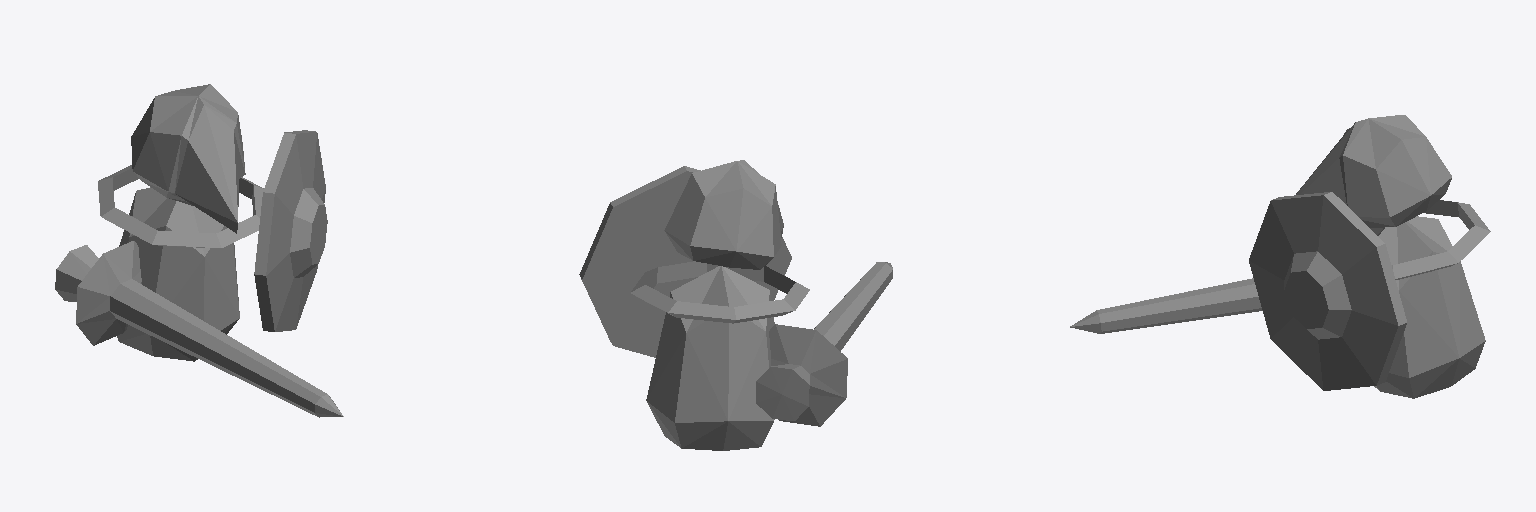
3 views of the same model, side by side, from view 1: azimuth 30°, elevation 25°; view 2: azimuth 150°, elevation 25°; view 3: azimuth 270°, elevation 25° (orthographic).
Visible parts, largest first — view 1: meshMinion; view 2: meshMinion; view 3: meshMinion.
Part boxes in pixels (x1,y1,x2,y2): meshMinion: (55,84,343,417); meshMinion: (579,160,892,450); meshMinion: (1070,115,1490,398).
Bounding box in the file's own units: 104 × 101 × 147.